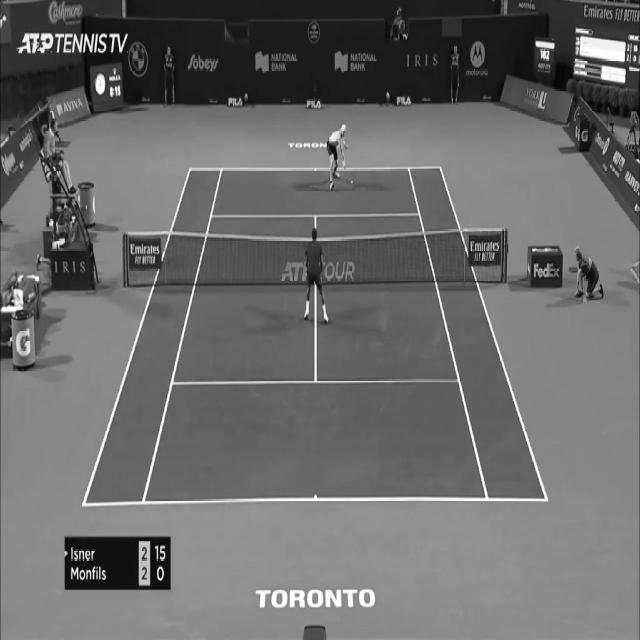tennis-court: (81, 166, 549, 506)
